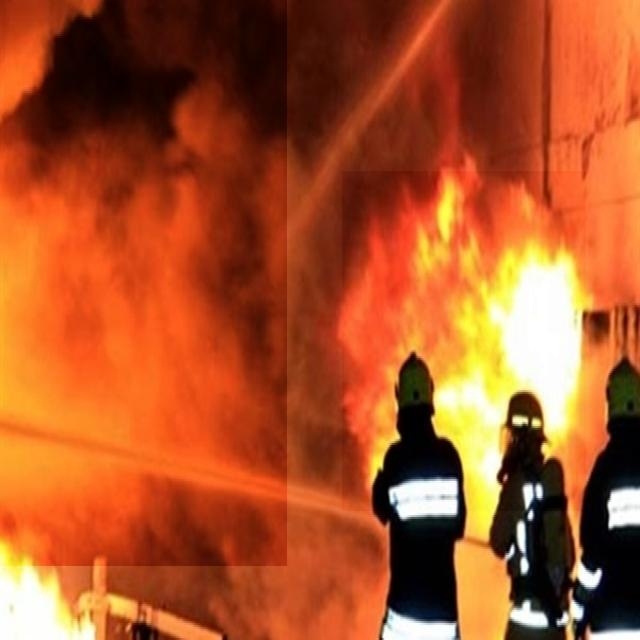Fire: (342, 171, 586, 511), (0, 549, 90, 640)
Smoke: (0, 0, 287, 566)
